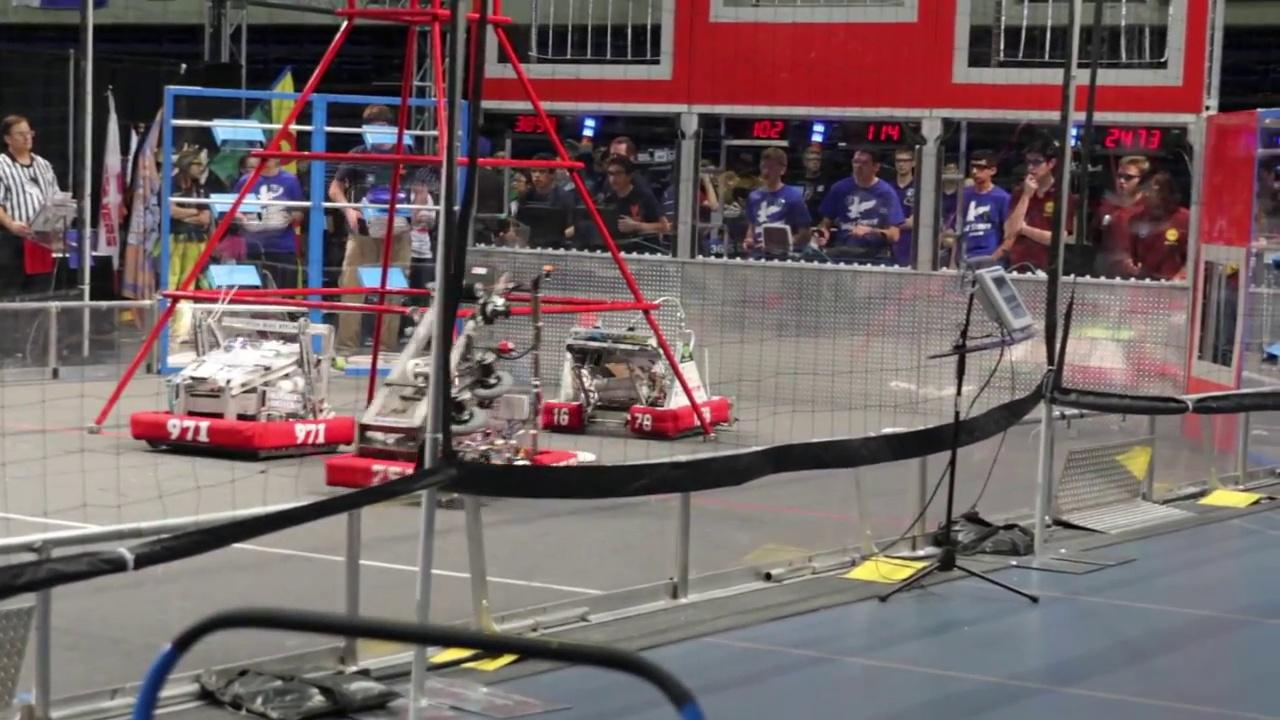robot: (323, 278, 573, 493), (129, 302, 362, 464), (533, 318, 740, 442)
